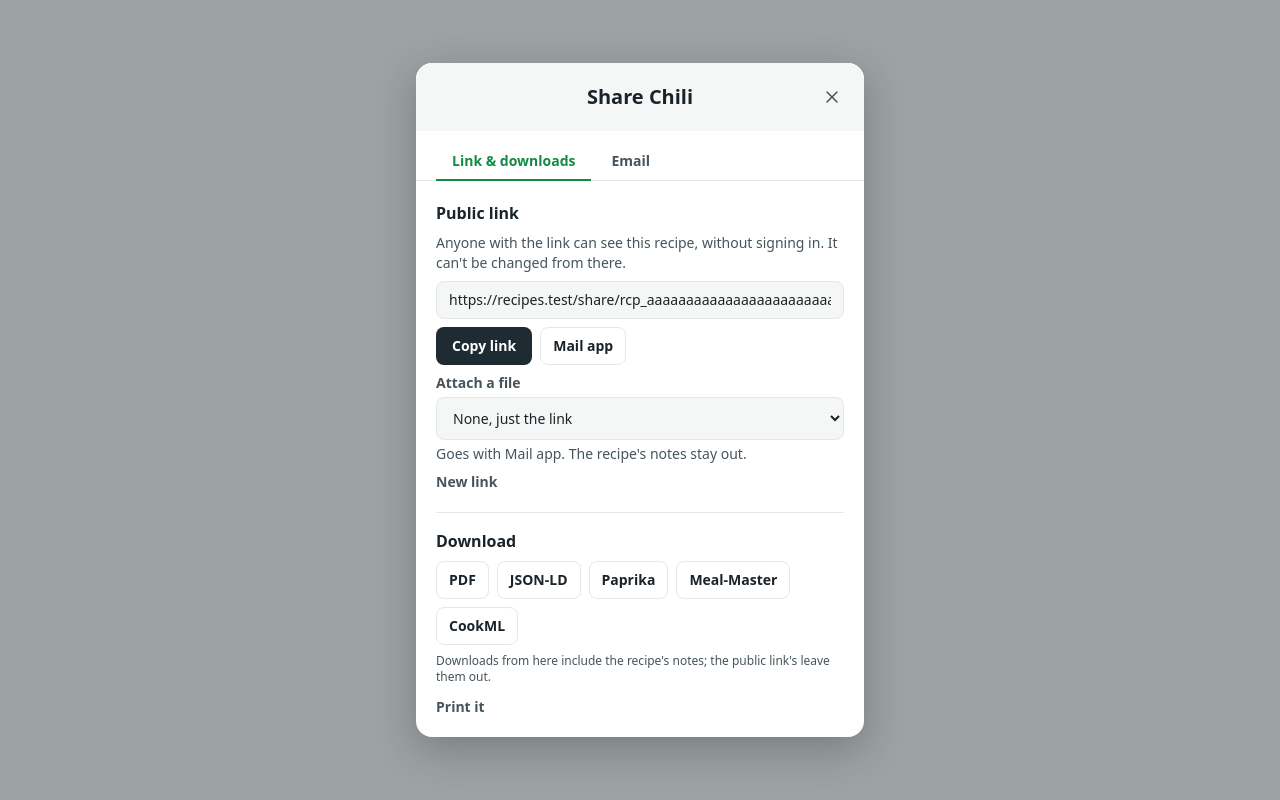
Scenario: ways to send it (Share) › Mail app with a file: downloads it first and says to attach it (mail links can't carry files)
The width and height of the screenshot is (1280, 800).
Expected: the field showing "https://recipes.test/share/rcp_aaaaaaaaaaaaaaaaaaaaaaaaaaaaaaaa" is shown, top-left (436, 281), bottom-right (844, 319)
Select "PDF" in the dropdown labelled "Attach a file" at [640, 418], box top-left (436, 397), bottom-right (844, 440)
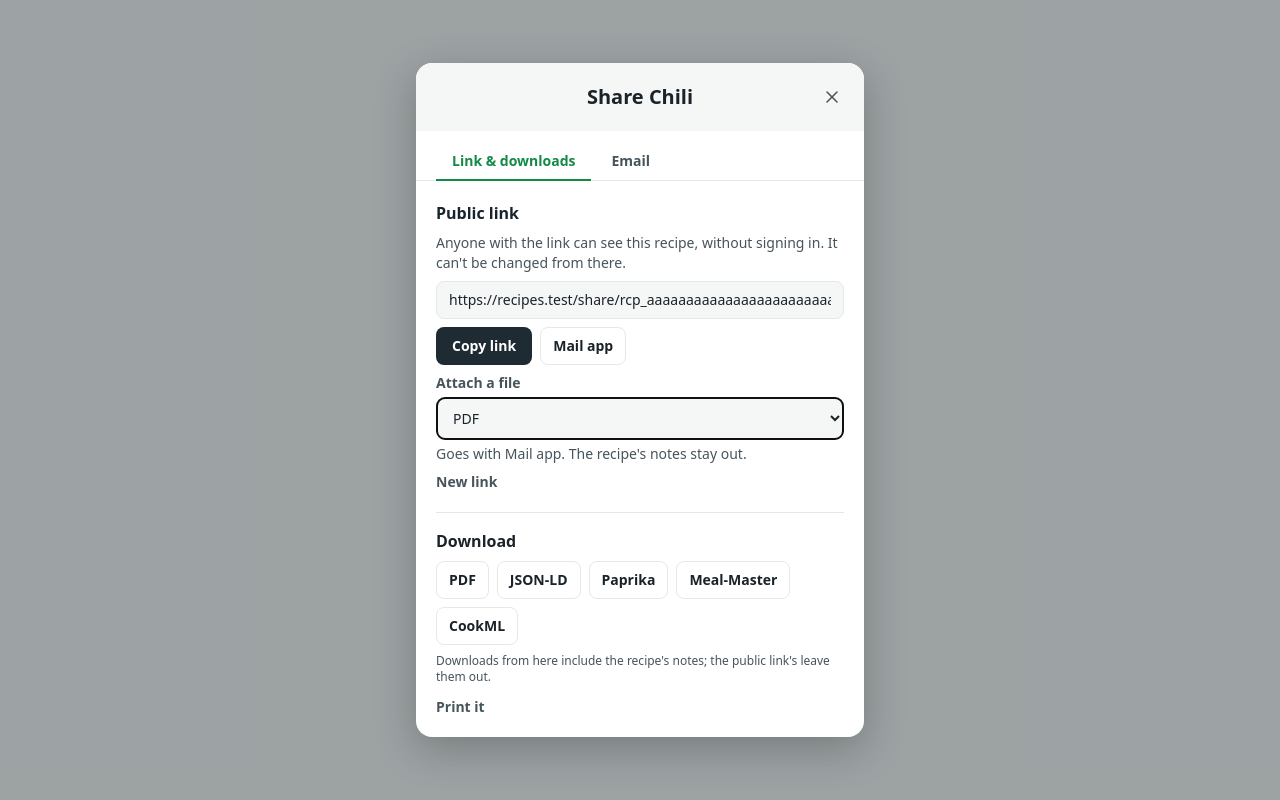
Click the button "Mail app".
click(583, 346)  # box top-left (540, 327), bottom-right (626, 365)
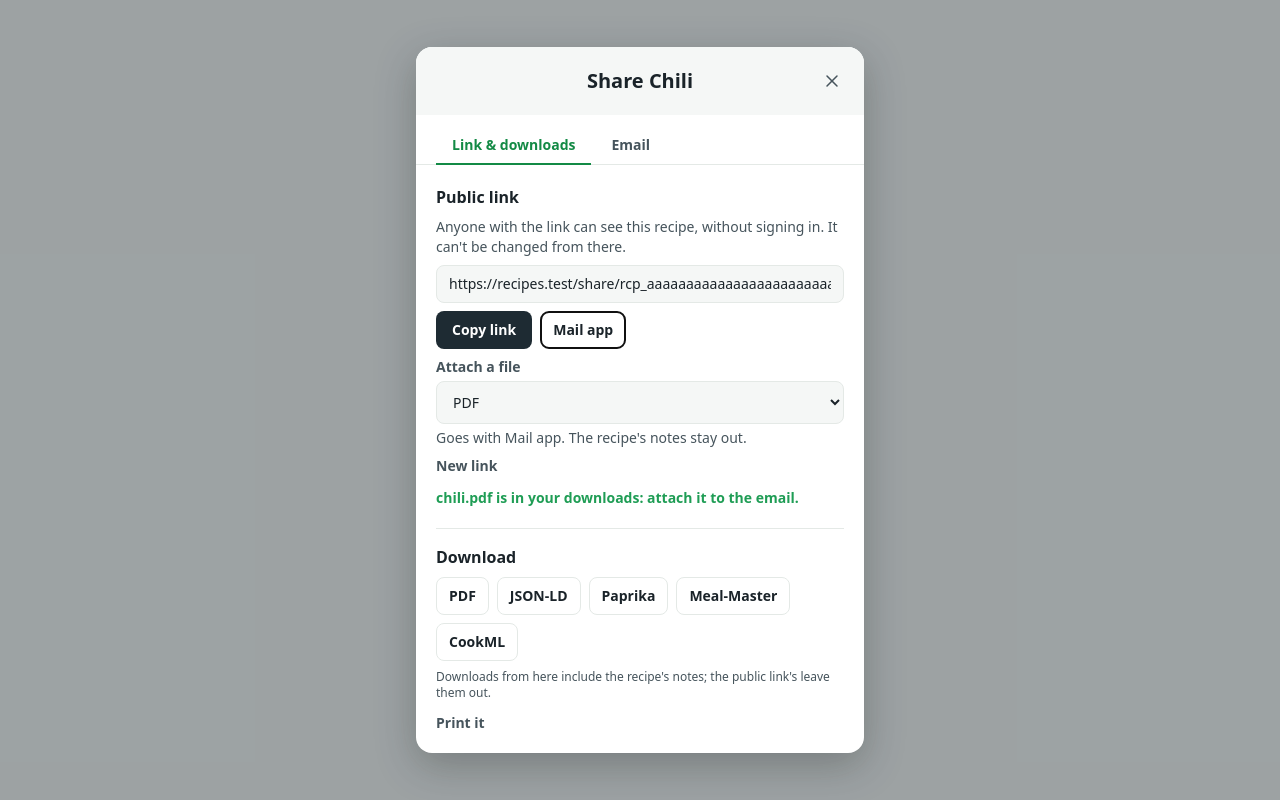
Expected: the text "chili.pdf is in your downloads: attach it to the email." is shown, top-left (436, 488), bottom-right (844, 508)
